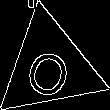O_N: (22, 35, 77, 98)
